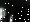person: (1, 9, 7, 22), (9, 10, 15, 22)
